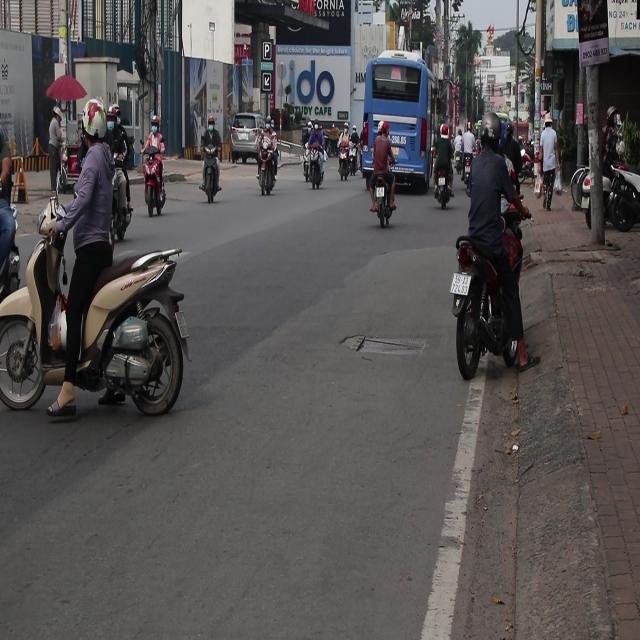bus: (362, 52, 434, 188)
car: (228, 112, 263, 164)
motorbike: (0, 250, 199, 428), (458, 230, 528, 379), (570, 140, 638, 234), (142, 146, 168, 219), (261, 151, 285, 200), (200, 153, 218, 211), (433, 175, 459, 212), (310, 146, 330, 194), (374, 182, 395, 224), (349, 146, 363, 189), (336, 144, 347, 174)
